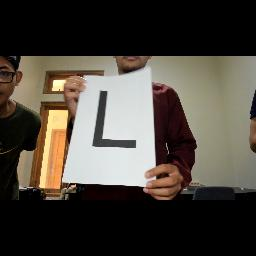l: (90, 85, 144, 157)
